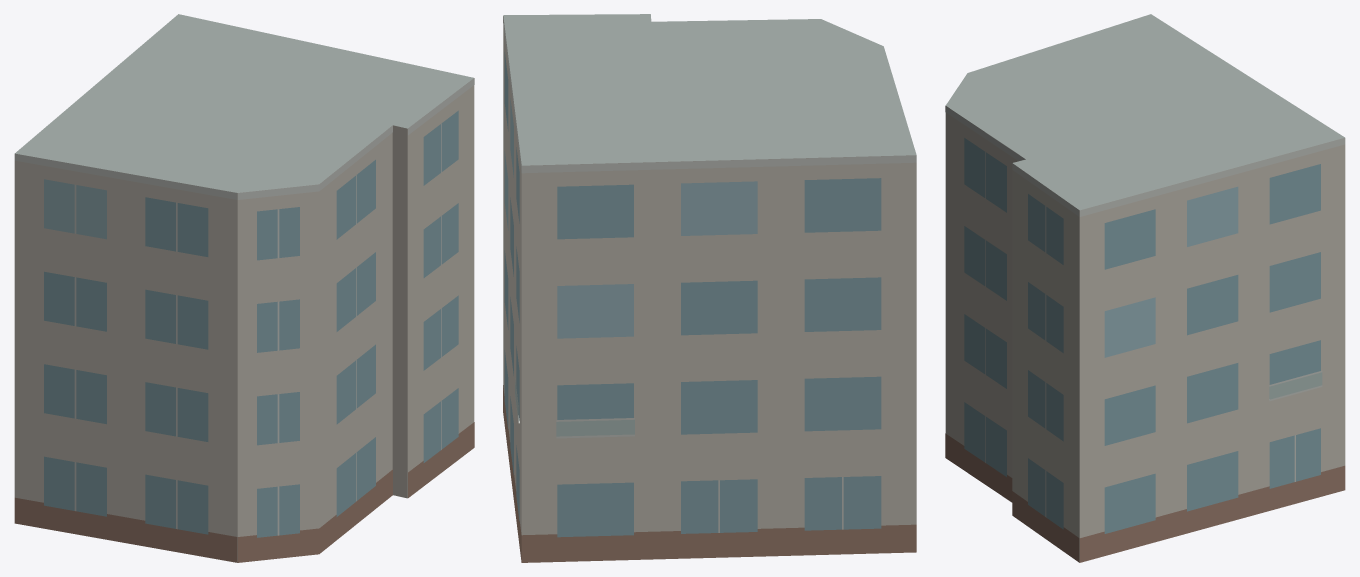
Rendered from survey-upis-32656494.glb.
3 renders of one model, left to right at view 1: azimuth 30°, elevation 25°; view 2: azimuth 150°, elevation 25°; view 3: azimuth 270°, elevation 25°, orthographic. The views are drawn at different scales.
Parts seen in each view (by area): view 1: survey-upis-32656494.tmp; view 2: survey-upis-32656494.tmp; view 3: survey-upis-32656494.tmp.
Part boxes in pixels (x1,y1,x2,y2): survey-upis-32656494.tmp: [14, 14, 474, 562]; survey-upis-32656494.tmp: [503, 14, 916, 562]; survey-upis-32656494.tmp: [945, 14, 1345, 562].
Bounding box in the file's own units: 15.31 × 12.8 × 13.17.
